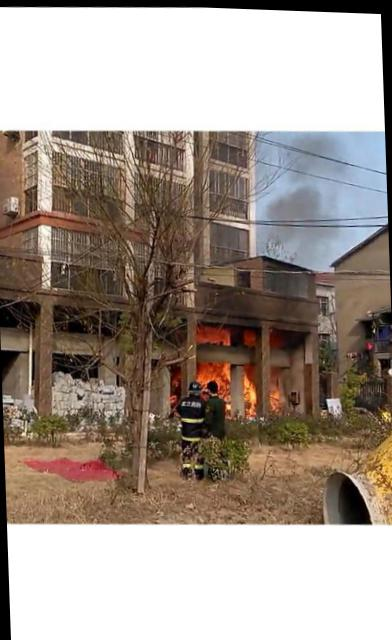fire: (198, 358, 230, 397), (194, 322, 232, 343), (243, 374, 256, 414)
